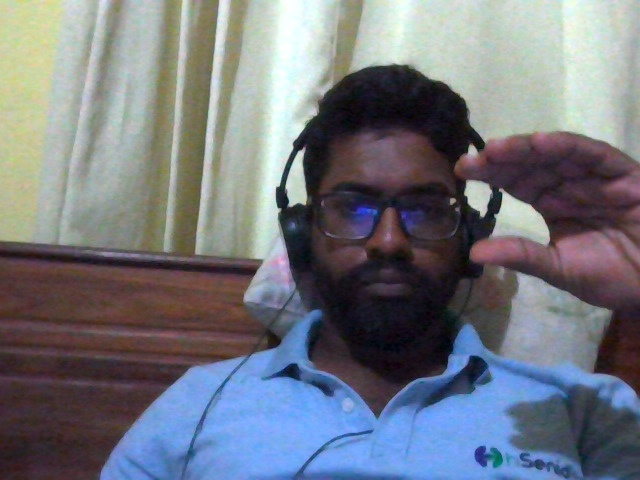No: (422, 78, 640, 378)
